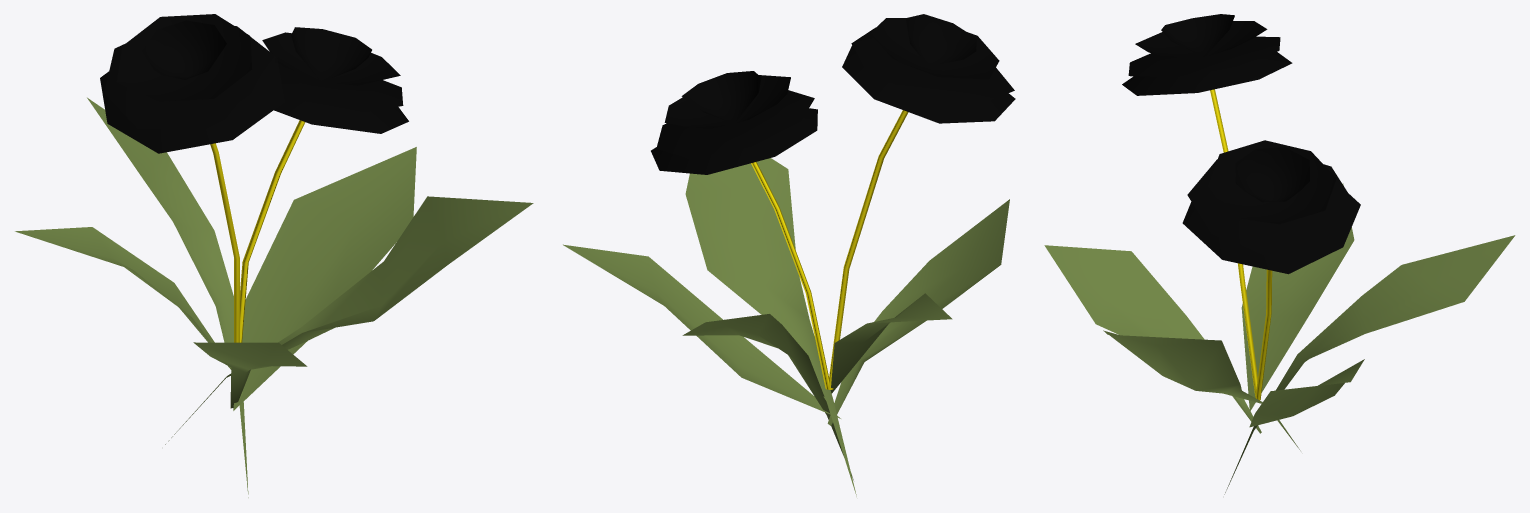
The model's file is Dandelion2.fbx.
3 renders of one model, left to right at view 1: azimuth 30°, elevation 25°; view 2: azimuth 150°, elevation 25°; view 3: azimuth 270°, elevation 25°, orthographic. The views are drawn at different scales.
Parts seen in each view (by area): view 1: Weed_Dandellion_A_spring-summer.064; view 2: Weed_Dandellion_A_spring-summer.064; view 3: Weed_Dandellion_A_spring-summer.064.
Part boxes in pixels (box(x1,y1,x2,y2)): Weed_Dandellion_A_spring-summer.064: box(15, 14, 533, 497); Weed_Dandellion_A_spring-summer.064: box(563, 14, 1015, 496); Weed_Dandellion_A_spring-summer.064: box(1044, 14, 1515, 494).
Size of the model in its own units: 64.41 by 74.41 by 70.32.
